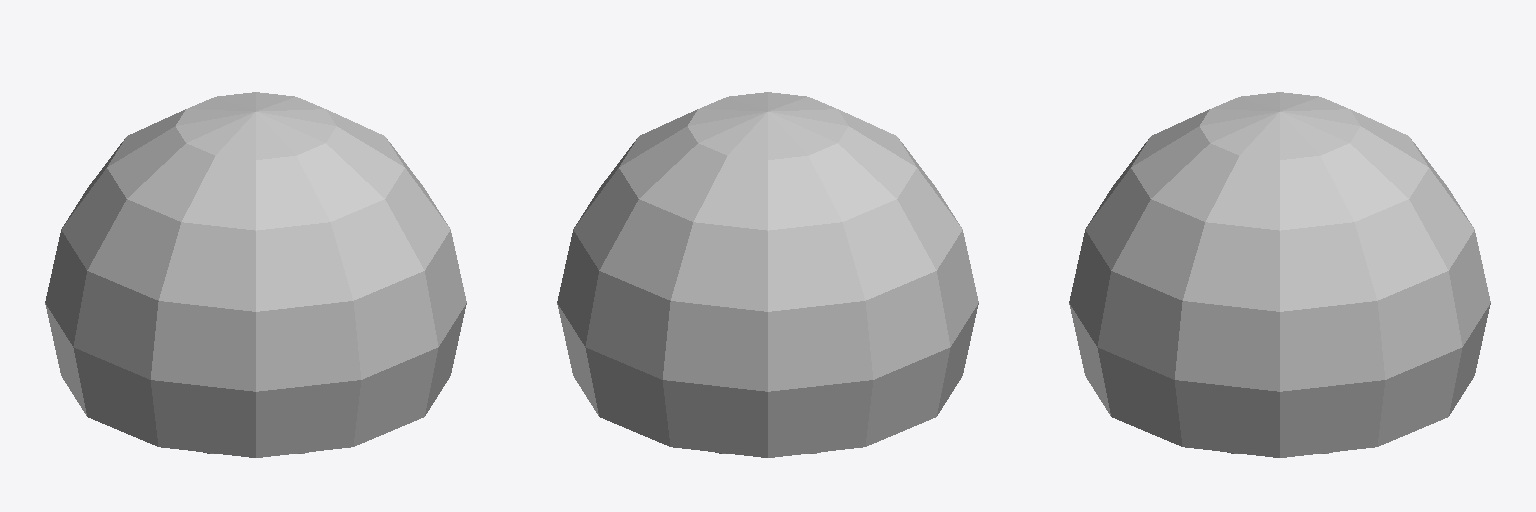
The model's file is bush.obj.
3 views of the same model, side by side, from view 1: azimuth 30°, elevation 25°; view 2: azimuth 150°, elevation 25°; view 3: azimuth 270°, elevation 25° (orthographic).
Visible parts, largest first — view 1: sphere1; view 2: sphere1; view 3: sphere1.
Part boxes in pixels (left/top/right/bottom): sphere1: left=45, top=92, right=466, bottom=457; sphere1: left=557, top=92, right=978, bottom=457; sphere1: left=1069, top=92, right=1490, bottom=457.
Size of the model in its own units: 2 by 1.51 by 2.